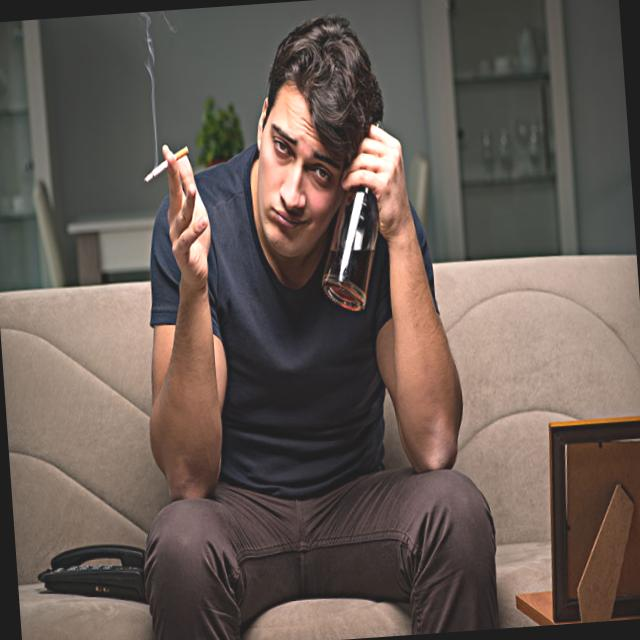smoke: (142, 158, 168, 186)
